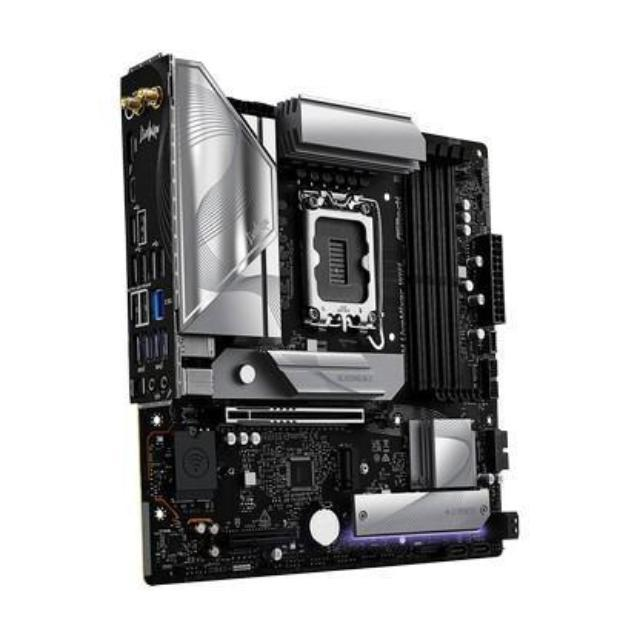Mainboard: (122, 56, 522, 584)
